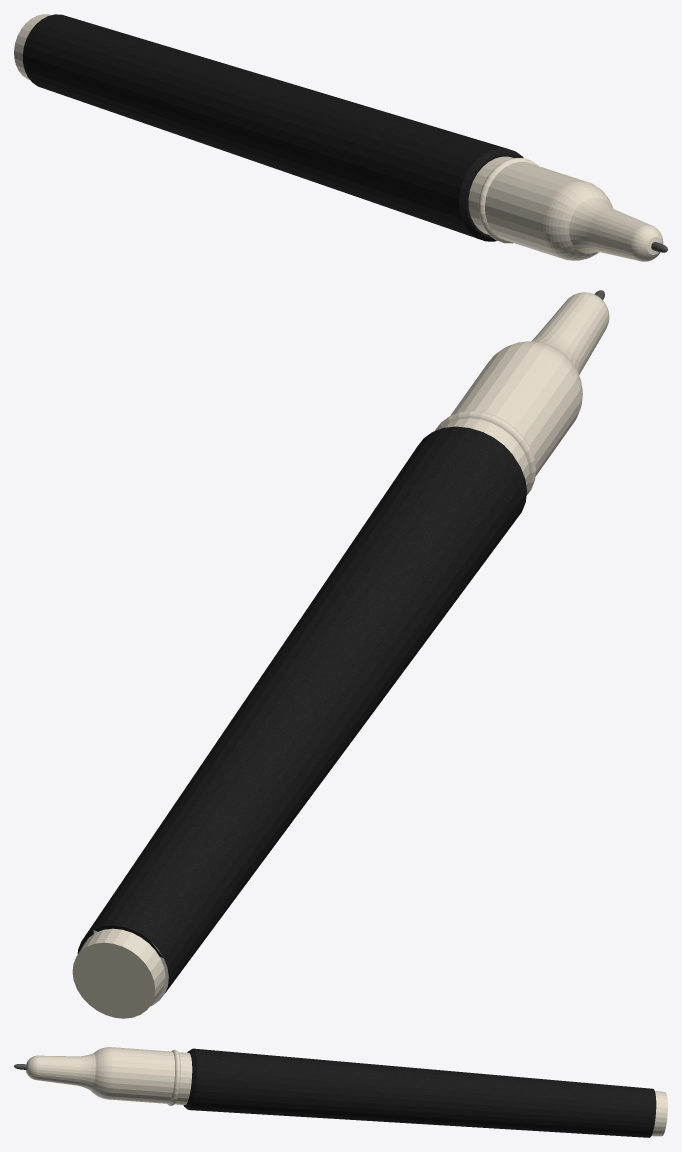
The model's file is marker2.fbx.
3 renders of one model, top to bottom at view 1: azimuth 30°, elevation 25°; view 2: azimuth 150°, elevation 25°; view 3: azimuth 270°, elevation 25°, orthographic. The views are drawn at different scales.
Parts seen in each view (by area): view 1: marker2; view 2: marker2; view 3: marker2.
Boxes of the visible parts, x1,y1,x2,y2 form: marker2: (14, 14, 667, 261); marker2: (72, 290, 609, 1018); marker2: (14, 1047, 667, 1137).
Size of the model in its own units: 30.51 by 31.2 by 156.
5 materials, 3 textured.
